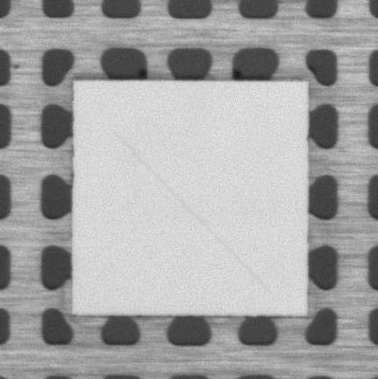DIE_CRACK: (114, 132, 269, 293)
